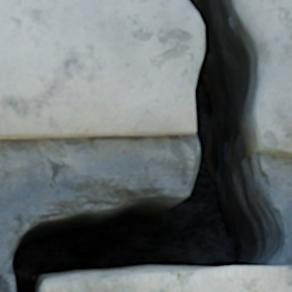brick: (41, 266, 291, 291)
broken_brick: (0, 0, 203, 139), (237, 0, 291, 157)
crack: (0, 0, 289, 291)
